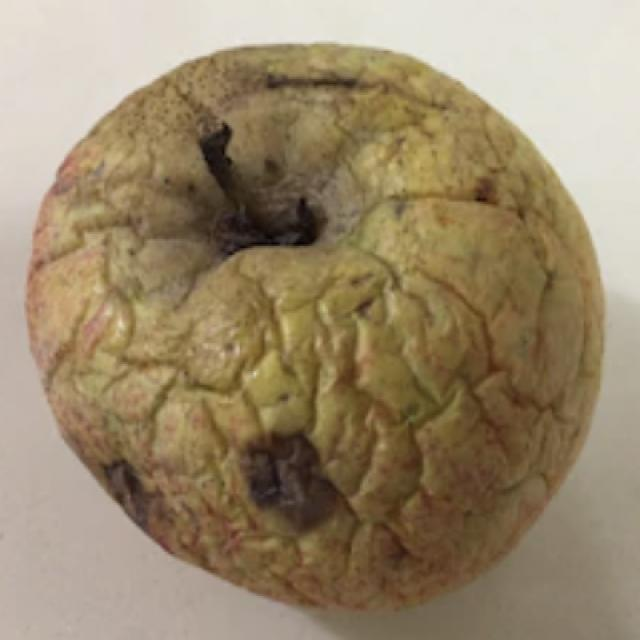Rotten: (57, 35, 553, 567)
